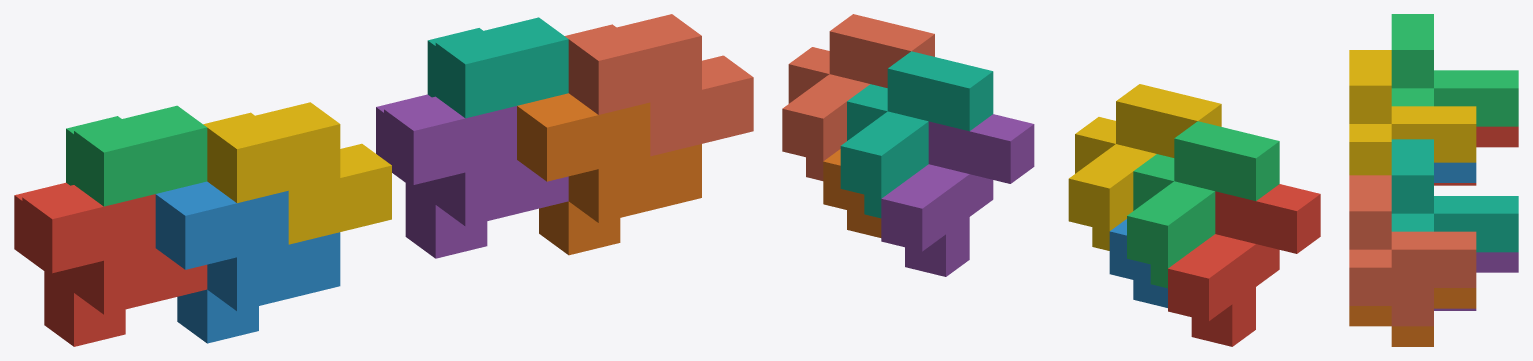
Rendered from tiling.obj.
3 renders of one model, left to right at view 1: azimuth 30°, elevation 25°; view 2: azimuth 150°, elevation 25°; view 3: azimuth 270°, elevation 25°, orthographic. The views are drawn at different scales.
Visible parts, largest first — view 1: copy_1_domain_1, copy_1_domain_5, copy_1_domain_2, copy_1_domain_6, copy_1_domain_8, copy_1_domain_4, copy_1_domain_7, copy_1_domain_3; view 2: copy_1_domain_5, copy_1_domain_1, copy_1_domain_7, copy_1_domain_3, copy_1_domain_4, copy_1_domain_8, copy_1_domain_6, copy_1_domain_2; view 3: copy_1_domain_8, copy_1_domain_4, copy_1_domain_3, copy_1_domain_7, copy_1_domain_6, copy_1_domain_1, copy_1_domain_5, copy_1_domain_2.
Boxes of the visible parts, x1,y1,x2,y2 form: copy_1_domain_1: [14, 182, 207, 346]; copy_1_domain_5: [376, 94, 568, 258]; copy_1_domain_2: [155, 181, 340, 343]; copy_1_domain_6: [517, 93, 701, 255]; copy_1_domain_8: [565, 14, 753, 156]; copy_1_domain_4: [203, 102, 391, 244]; copy_1_domain_7: [427, 17, 568, 118]; copy_1_domain_3: [66, 105, 207, 206]; copy_1_domain_5: [881, 114, 1034, 276]; copy_1_domain_1: [1168, 184, 1320, 346]; copy_1_domain_7: [840, 51, 993, 218]; copy_1_domain_3: [1127, 121, 1279, 288]; copy_1_domain_4: [1068, 84, 1221, 250]; copy_1_domain_8: [782, 14, 934, 180]; copy_1_domain_6: [823, 149, 881, 237]; copy_1_domain_2: [1109, 219, 1167, 307]; copy_1_domain_8: [1349, 175, 1476, 326]; copy_1_domain_4: [1349, 50, 1476, 175]; copy_1_domain_3: [1391, 14, 1518, 126]; copy_1_domain_7: [1391, 139, 1518, 252]; copy_1_domain_6: [1349, 288, 1476, 346]; copy_1_domain_1: [1434, 126, 1518, 185]; copy_1_domain_5: [1434, 252, 1518, 310]; copy_1_domain_2: [1434, 162, 1476, 182].
Bounding box in the file's own units: 13 × 4 × 4.
